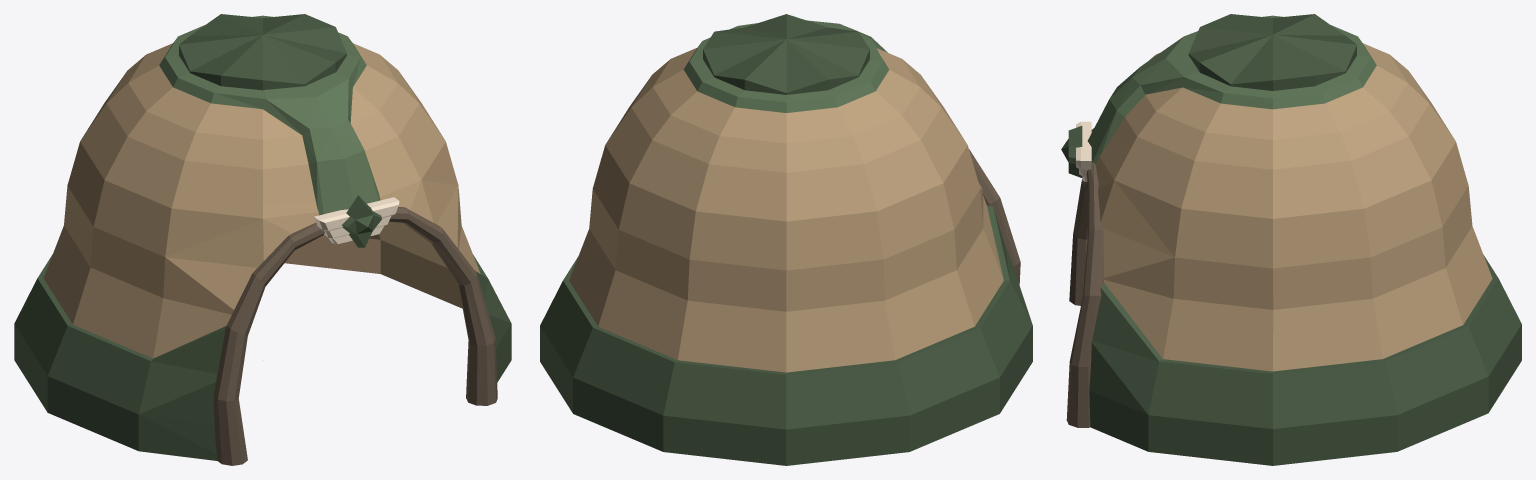
Rendered from _tent_2.fbx.
3 renders of one model, left to right at view 1: azimuth 30°, elevation 25°; view 2: azimuth 150°, elevation 25°; view 3: azimuth 270°, elevation 25°, orthographic.
Visible parts, largest first — view 1: tent_2; view 2: tent_2; view 3: tent_2.
Boxes of the visible parts, bbox=[...] form: tent_2: bbox=[14, 14, 511, 465]; tent_2: bbox=[540, 14, 1032, 465]; tent_2: bbox=[1061, 14, 1521, 465].
Size of the model in its own units: 638 by 460 by 590.
